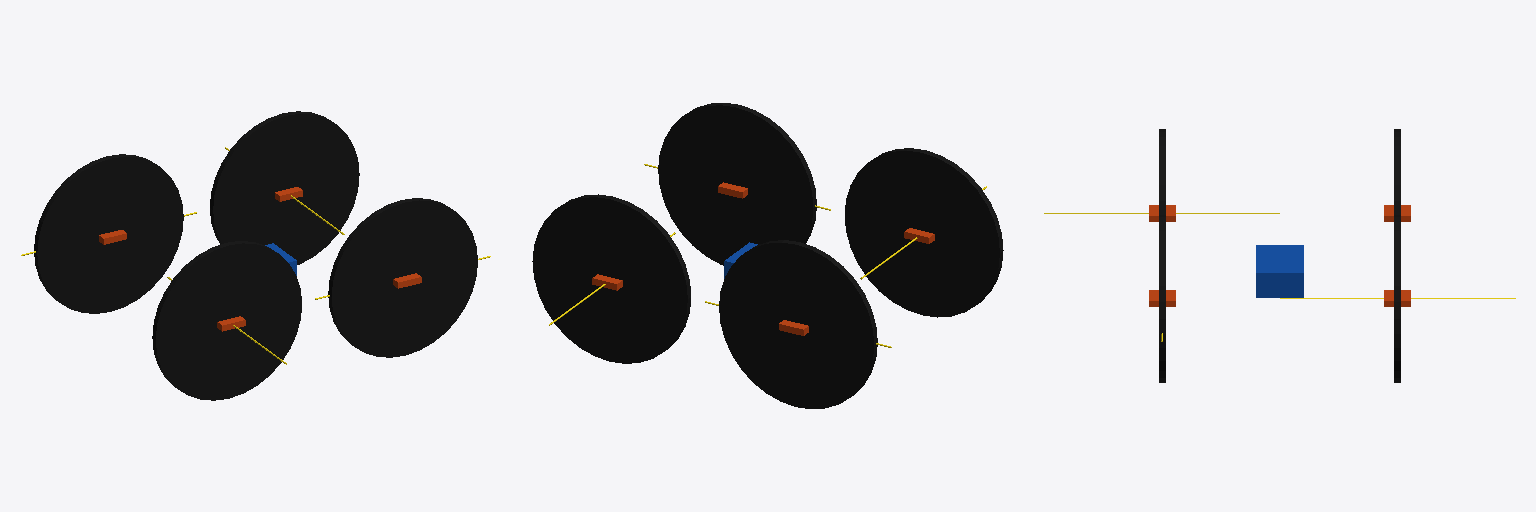
robot.urdf — goat:
<?xml version="1.0"?>
<!--
  GOAT Robot URDF — Version 3 Fixed (Clean Tendon Architecture)
  
  REDESIGN: Circuit topology with 4 segments connecting 4 corner wheels
  Structure: 2 stacked rings with 4 segments forming rectangular circuit
  Segments: Front (FL→FR), Right (FR→RR), Back (RR→RL), Left (RL→FL)
  Wheels at 4 corners: FL, FR, RL, RR (front-left, front-right, rear-left, rear-right)

  TENDONS: 2 independent cables for morphing control via prismatic joints to eyelets
-->
<robot name="goat">

  <material name="fiberglass"><color rgba="0.95 0.85 0.10 1.0"/></material>
  <material name="payload_box"><color rgba="0.10 0.35 0.70 1.0"/></material>
  <material name="wheel_dark"><color rgba="0.12 0.12 0.12 1.0"/></material>
  <material name="connector"><color rgba="0.80 0.30 0.10 1.0"/></material>

  <!-- PAYLOAD — base link, 1.8 kg -->
  <link name="payload">
    <visual>
      <origin xyz="0 0 0" rpy="0 0 0"/>
      <geometry><box size="0.20 0.14 0.08"/></geometry>
      <material name="payload_box"/>
    </visual>
    <collision>
      <origin xyz="0 0 0" rpy="0 0 0"/>
      <geometry><box size="0.20 0.14 0.08"/></geometry>
    </collision>
    <inertial>
      <origin xyz="0 0 0" rpy="0 0 0"/>
      <mass value="1.80"/>
      <inertia ixx="0.003940" ixy="0" ixz="0"
               iyy="0.005150" iyz="0"
               izz="0.006720"/>
    </inertial>
  </link>

  <!-- ════════════════════════════════════════════════════════════════════════════
       LENSES (×4) — Rigid connectors at 4 wheel corners
  ════════════════════════════════════════════════════════════════════════════ -->

  <link name="lens_FL">
    <visual>
      <origin xyz="0 0 0" rpy="0 0 0"/>
      <geometry><box size="0.08 0.08 0.02"/></geometry>
      <material name="connector"/>
    </visual>
    <collision>
      <origin xyz="0 0 0" rpy="0 0 0"/>
      <geometry><box size="0.08 0.08 0.02"/></geometry>
    </collision>
    <inertial>
      <origin xyz="0 0 0" rpy="0 0 0"/>
      <mass value="0.010"/>
      <inertia ixx="0.000011" ixy="0" ixz="0"
               iyy="0.000011" iyz="0"
               izz="0.000011"/>
    </inertial>
  </link>
  <joint name="lens_FL_joint" type="fixed">
    <parent link="payload"/>
    <child  link="lens_FL"/>
    <origin xyz="0.30 0.35 0.05" rpy="0 0 0"/>
  </joint>

  <link name="lens_FR">
    <visual>
      <origin xyz="0 0 0" rpy="0 0 0"/>
      <geometry><box size="0.08 0.08 0.02"/></geometry>
      <material name="connector"/>
    </visual>
    <collision>
      <origin xyz="0 0 0" rpy="0 0 0"/>
      <geometry><box size="0.08 0.08 0.02"/></geometry>
    </collision>
    <inertial>
      <origin xyz="0 0 0" rpy="0 0 0"/>
      <mass value="0.010"/>
      <inertia ixx="0.000011" ixy="0" ixz="0"
               iyy="0.000011" iyz="0"
               izz="0.000011"/>
    </inertial>
  </link>
  <joint name="lens_FR_joint" type="fixed">
    <parent link="payload"/>
    <child  link="lens_FR"/>
    <origin xyz="0.30 -0.35 0.05" rpy="0 0 0"/>
  </joint>

  <link name="lens_RL">
    <visual>
      <origin xyz="0 0 0" rpy="0 0 0"/>
      <geometry><box size="0.08 0.08 0.02"/></geometry>
      <material name="connector"/>
    </visual>
    <collision>
      <origin xyz="0 0 0" rpy="0 0 0"/>
      <geometry><box size="0.08 0.08 0.02"/></geometry>
    </collision>
    <inertial>
      <origin xyz="0 0 0" rpy="0 0 0"/>
      <mass value="0.010"/>
      <inertia ixx="0.000011" ixy="0" ixz="0"
               iyy="0.000011" iyz="0"
               izz="0.000011"/>
    </inertial>
  </link>
  <joint name="lens_RL_joint" type="fixed">
    <parent link="payload"/>
    <child  link="lens_RL"/>
    <origin xyz="-0.30 0.35 0.05" rpy="0 0 0"/>
  </joint>

  <link name="lens_RR">
    <visual>
      <origin xyz="0 0 0" rpy="0 0 0"/>
      <geometry><box size="0.08 0.08 0.02"/></geometry>
      <material name="connector"/>
    </visual>
    <collision>
      <origin xyz="0 0 0" rpy="0 0 0"/>
      <geometry><box size="0.08 0.08 0.02"/></geometry>
    </collision>
    <inertial>
      <origin xyz="0 0 0" rpy="0 0 0"/>
      <mass value="0.010"/>
      <inertia ixx="0.000011" ixy="0" ixz="0"
               iyy="0.000011" iyz="0"
               izz="0.000011"/>
    </inertial>
  </link>
  <joint name="lens_RR_joint" type="fixed">
    <parent link="payload"/>
    <child  link="lens_RR"/>
    <origin xyz="-0.30 -0.35 0.05" rpy="0 0 0"/>
  </joint>

  <!-- ════════════════════════════════════════════════════════════════════════════
       CIRCUIT SEGMENTS (4 total) — Connected loop around the 4 wheels
       
       Segments attach to lenses at corners and form rectangular circuit
       Eyelets at midpoints for tendon attachment
  ════════════════════════════════════════════════════════════════════════════ -->

  <!-- SEGMENT 1: FRONT  (0.70m Y-axis, FL → FR) -->
  <link name="seg_front">
    <visual>
      <origin xyz="0 0 0" rpy="1.5708 0 0"/>
      <geometry><cylinder radius="0.0025" length="0.70"/></geometry>
      <material name="fiberglass"/>
    </visual>
    <collision>
      <origin xyz="0 0 0" rpy="1.5708 0 0"/>
      <geometry><cylinder radius="0.0025" length="0.70"/></geometry>
    </collision>
    <inertial>
      <origin xyz="0 0 0" rpy="1.5708 0 0"/>
      <mass value="0.09"/>
      <inertia ixx="0.00000062" ixy="0" ixz="0"
               iyy="0.0029167" iyz="0"
               izz="0.0029167"/>
    </inertial>
  </link>
  <joint name="j_lens_FL_to_seg_front" type="fixed">
    <parent link="lens_FL"/>
    <child  link="seg_front"/>
    <origin xyz="0 0 0" rpy="0 0 0"/>
  </joint>

  <!-- EYELET F: midpoint of front segment -->
  <link name="eyelet_F">
    <visual>
      <origin xyz="0 0 0" rpy="0 0 0"/>
      <geometry><sphere radius="0.008"/></geometry>
      <material name="connector"/>
    </visual>
    <collision>
      <origin xyz="0 0 0" rpy="0 0 0"/>
      <geometry><sphere radius="0.008"/></geometry>
    </collision>
    <inertial>
      <origin xyz="0 0 0" rpy="0 0 0"/>
      <mass value="0.002"/>
      <inertia ixx="0.000001" ixy="0" ixz="0"
               iyy="0.000001" iyz="0"
               izz="0.000001"/>
    </inertial>
  </link>
  <joint name="j_seg_front_eyelet" type="fixed">
    <parent link="seg_front"/>
    <child  link="eyelet_F"/>
    <origin xyz="0 0 0" rpy="0 0 0"/>
  </joint>

  <!-- SEGMENT 2: RIGHT (0.60m X-axis, FR → RR) -->
  <link name="seg_right">
    <visual>
      <origin xyz="0 0 0" rpy="0 1.5708 0"/>
      <geometry><cylinder radius="0.0025" length="0.60"/></geometry>
      <material name="fiberglass"/>
    </visual>
    <collision>
      <origin xyz="0 0 0" rpy="0 1.5708 0"/>
      <geometry><cylinder radius="0.0025" length="0.60"/></geometry>
    </collision>
    <inertial>
      <origin xyz="0 0 0" rpy="0 1.5708 0"/>
      <mass value="0.08"/>
      <inertia ixx="0.00000062" ixy="0" ixz="0"
               iyy="0.0020000" iyz="0"
               izz="0.0020000"/>
    </inertial>
  </link>
  <joint name="j_lens_FR_to_seg_right" type="fixed">
    <parent link="lens_FR"/>
    <child  link="seg_right"/>
    <origin xyz="0 0 0" rpy="0 0 0"/>
  </joint>

  <!-- EYELET R: midpoint of right segment -->
  <link name="eyelet_R">
    <visual>
      <origin xyz="0 0 0" rpy="0 0 0"/>
      <geometry><sphere radius="0.008"/></geometry>
      <material name="connector"/>
    </visual>
    <collision>
      <origin xyz="0 0 0" rpy="0 0 0"/>
      <geometry><sphere radius="0.008"/></geometry>
    </collision>
    <inertial>
      <origin xyz="0 0 0" rpy="0 0 0"/>
      <mass value="0.002"/>
      <inertia ixx="0.000001" ixy="0" ixz="0"
               iyy="0.000001" iyz="0"
               izz="0.000001"/>
    </inertial>
  </link>
  <joint name="j_seg_right_eyelet" type="fixed">
    <parent link="seg_right"/>
    <child  link="eyelet_R"/>
    <origin xyz="0 0 0" rpy="0 0 0"/>
  </joint>

  <!-- SEGMENT 3: BACK (0.70m Y-axis, RR → RL) -->
  <link name="seg_back">
    <visual>
      <origin xyz="0 0 0" rpy="1.5708 0 0"/>
      <geometry><cylinder radius="0.0025" length="0.70"/></geometry>
      <material name="fiberglass"/>
    </visual>
    <collision>
      <origin xyz="0 0 0" rpy="1.5708 0 0"/>
      <geometry><cylinder radius="0.0025" length="0.70"/></geometry>
    </collision>
    <inertial>
      <origin xyz="0 0 0" rpy="1.5708 0 0"/>
      <mass value="0.09"/>
      <inertia ixx="0.00000062" ixy="0" ixz="0"
               iyy="0.0029167" iyz="0"
               izz="0.0029167"/>
    </inertial>
  </link>
  <joint name="j_lens_RR_to_seg_back" type="fixed">
    <parent link="lens_RR"/>
    <child  link="seg_back"/>
    <origin xyz="0 0 0" rpy="0 0 0"/>
  </joint>

  <!-- EYELET B: midpoint of back segment -->
  <link name="eyelet_B">
    <visual>
      <origin xyz="0 0 0" rpy="0 0 0"/>
      <geometry><sphere radius="0.008"/></geometry>
      <material name="connector"/>
    </visual>
    <collision>
      <origin xyz="0 0 0" rpy="0 0 0"/>
      <geometry><sphere radius="0.008"/></geometry>
    </collision>
    <inertial>
      <origin xyz="0 0 0" rpy="0 0 0"/>
      <mass value="0.002"/>
      <inertia ixx="0.000001" ixy="0" ixz="0"
               iyy="0.000001" iyz="0"
               izz="0.000001"/>
    </inertial>
  </link>
  <joint name="j_seg_back_eyelet" type="fixed">
    <parent link="seg_back"/>
    <child  link="eyelet_B"/>
    <origin xyz="0 0 0" rpy="0 0 0"/>
  </joint>

  <!-- SEGMENT 4: LEFT (0.60m X-axis, RL → FL) -->
  <link name="seg_left">
    <visual>
      <origin xyz="0 0 0" rpy="0 1.5708 0"/>
      <geometry><cylinder radius="0.0025" length="0.60"/></geometry>
      <material name="fiberglass"/>
    </visual>
    <collision>
      <origin xyz="0 0 0" rpy="0 1.5708 0"/>
      <geometry><cylinder radius="0.0025" length="0.60"/></geometry>
    </collision>
    <inertial>
      <origin xyz="0 0 0" rpy="0 1.5708 0"/>
      <mass value="0.08"/>
      <inertia ixx="0.00000062" ixy="0" ixz="0"
               iyy="0.0020000" iyz="0"
               izz="0.0020000"/>
    </inertial>
  </link>
  <joint name="j_lens_RL_to_seg_left" type="fixed">
    <parent link="lens_RL"/>
    <child  link="seg_left"/>
    <origin xyz="0 0 0" rpy="0 0 0"/>
  </joint>

  <!-- EYELET L: midpoint of left segment -->
  <link name="eyelet_L">
    <visual>
      <origin xyz="0 0 0" rpy="0 0 0"/>
      <geometry><sphere radius="0.008"/></geometry>
      <material name="connector"/>
    </visual>
    <collision>
      <origin xyz="0 0 0" rpy="0 0 0"/>
      <geometry><sphere radius="0.008"/></geometry>
    </collision>
    <inertial>
      <origin xyz="0 0 0" rpy="0 0 0"/>
      <mass value="0.002"/>
      <inertia ixx="0.000001" ixy="0" ixz="0"
               iyy="0.000001" iyz="0"
               izz="0.000001"/>
    </inertial>
  </link>
  <joint name="j_seg_left_eyelet" type="fixed">
    <parent link="seg_left"/>
    <child  link="eyelet_L"/>
    <origin xyz="0 0 0" rpy="0 0 0"/>
  </joint>

  <!-- ════════════════════════════════════════════════════════════════════════════
       WHEELS (×4) — Continuous joints at the 4 corners
  ════════════════════════════════════════════════════════════════════════════ -->

  <link name="wheel_FL">
    <visual>
      <origin xyz="0 0 0" rpy="1.5708 0 0"/>
      <geometry><cylinder radius="0.2500" length="0.02"/></geometry>
      <material name="wheel_dark"/>
    </visual>
    <collision>
      <origin xyz="0 0 0" rpy="1.5708 0 0"/>
      <geometry><cylinder radius="0.2500" length="0.02"/></geometry>
    </collision>
    <inertial>
      <origin xyz="0 0 0" rpy="1.5708 0 0"/>
      <mass value="0.050"/>
      <inertia ixx="0.000800" ixy="0" ixz="0"
               iyy="0.001550" iyz="0"
               izz="0.000800"/>
    </inertial>
  </link>
  <joint name="wheel_FL_joint" type="continuous">
    <parent link="lens_FL"/>
    <child  link="wheel_FL"/>
    <origin xyz="0 0 0" rpy="0 0 0"/>
    <axis xyz="0 1 0"/>
    <dynamics damping="0.3" friction="0.05"/>
  </joint>

  <link name="wheel_FR">
    <visual>
      <origin xyz="0 0 0" rpy="1.5708 0 0"/>
      <geometry><cylinder radius="0.2500" length="0.02"/></geometry>
      <material name="wheel_dark"/>
    </visual>
    <collision>
      <origin xyz="0 0 0" rpy="1.5708 0 0"/>
      <geometry><cylinder radius="0.2500" length="0.02"/></geometry>
    </collision>
    <inertial>
      <origin xyz="0 0 0" rpy="1.5708 0 0"/>
      <mass value="0.050"/>
      <inertia ixx="0.001550" ixy="0" ixz="0"
               iyy="0.000800" iyz="0"
               izz="0.000800"/>
    </inertial>
  </link>
  <joint name="wheel_FR_joint" type="continuous">
    <parent link="lens_FR"/>
    <child  link="wheel_FR"/>
    <origin xyz="0 0 0" rpy="0 0 0"/>
    <axis xyz="1 0 0"/>
    <dynamics damping="0.3" friction="0.05"/>
  </joint>

  <link name="wheel_RL">
    <visual>
      <origin xyz="0 0 0" rpy="1.5708 0 0"/>
      <geometry><cylinder radius="0.2500" length="0.02"/></geometry>
      <material name="wheel_dark"/>
    </visual>
    <collision>
      <origin xyz="0 0 0" rpy="1.5708 0 0"/>
      <geometry><cylinder radius="0.2500" length="0.02"/></geometry>
    </collision>
    <inertial>
      <origin xyz="0 0 0" rpy="1.5708 0 0"/>
      <mass value="0.050"/>
      <inertia ixx="0.000800" ixy="0" ixz="0"
               iyy="0.001550" iyz="0"
               izz="0.000800"/>
    </inertial>
  </link>
  <joint name="wheel_RL_joint" type="continuous">
    <parent link="lens_RL"/>
    <child  link="wheel_RL"/>
    <origin xyz="0 0 0" rpy="0 0 0"/>
    <axis xyz="0 1 0"/>
    <dynamics damping="0.3" friction="0.05"/>
  </joint>

  <link name="wheel_RR">
    <visual>
      <origin xyz="0 0 0" rpy="1.5708 0 0"/>
      <geometry><cylinder radius="0.2500" length="0.02"/></geometry>
      <material name="wheel_dark"/>
    </visual>
    <collision>
      <origin xyz="0 0 0" rpy="1.5708 0 0"/>
      <geometry><cylinder radius="0.2500" length="0.02"/></geometry>
    </collision>
    <inertial>
      <origin xyz="0 0 0" rpy="1.5708 0 0"/>
      <mass value="0.050"/>
      <inertia ixx="0.001550" ixy="0" ixz="0"
               iyy="0.000800" iyz="0"
               izz="0.000800"/>
    </inertial>
  </link>
  <joint name="wheel_RR_joint" type="continuous">
    <parent link="lens_RR"/>
    <child  link="wheel_RR"/>
    <origin xyz="0 0 0" rpy="0 0 0"/>
    <axis xyz="1 0 0"/>
    <dynamics damping="0.3" friction="0.05"/>
  </joint>

  <!-- ════════════════════════════════════════════════════════════════════════════
       TENDON SYSTEM (×2) — Prismatic joints for morphing control
       
       Direct prismatic joints without intermediate cable links
       These actuate the circuit deformation directly via Python control
  ════════════════════════════════════════════════════════════════════════════ -->

  <!-- TENDON 1: X-axis (left-right circuit morphing) -->
  <link name="tendon_1">
    <inertial>
      <mass value="0.005"/>
      <inertia ixx="0.000001" ixy="0" ixz="0"
               iyy="0.000001" iyz="0"
               izz="0.000001"/>
    </inertial>
  </link>
  <joint name="tendon_1" type="prismatic">
    <parent link="payload"/>
    <child  link="tendon_1"/>
    <origin xyz="0 0 0" rpy="0 0 0"/>
    <axis xyz="1 0 0"/>
    <limit lower="0.0" upper="0.35" effort="3.92" velocity="0.1"/>
    <dynamics damping="5.0" friction="0.2"/>
  </joint>

  <!-- TENDON 2: Y-axis (front-back circuit morphing) -->
  <link name="tendon_2">
    <inertial>
      <mass value="0.005"/>
      <inertia ixx="0.000001" ixy="0" ixz="0"
               iyy="0.000001" iyz="0"
               izz="0.000001"/>
    </inertial>
  </link>
  <joint name="tendon_2" type="prismatic">
    <parent link="payload"/>
    <child  link="tendon_2"/>
    <origin xyz="0 0 0" rpy="0 0 0"/>
    <axis xyz="0 1 0"/>
    <limit lower="0.0" upper="0.30" effort="3.92" velocity="0.1"/>
    <dynamics damping="5.0" friction="0.2"/>
  </joint>

</robot>

--- Render facts (derived) ---
3 views of the same robot in one strip: view 1: azimuth 30°, elevation 25°; view 2: azimuth 150°, elevation 25°; view 3: azimuth 270°, elevation 25° (orthographic).
Robot: goat — 19 links, 18 joints (4 continuous, 2 prismatic, 12 fixed); root link payload; default pose: all joints at 0.
Links seen in each view (by area): view 1: wheel_RL, wheel_FR, wheel_RR, wheel_FL; view 2: wheel_RL, wheel_RR, wheel_FL, wheel_FR; view 3: payload, wheel_FL, wheel_FR, wheel_RL, wheel_RR.
Boxes of the visible links, x1,y1,x2,y2 form: wheel_RL: (34,154,183,313); wheel_FR: (328,198,477,357); wheel_RR: (152,241,301,400); wheel_FL: (210,111,359,264); wheel_RL: (719,240,877,408); wheel_RR: (845,148,1003,317); wheel_FL: (532,194,690,363); wheel_FR: (658,103,816,265); payload: (1256,245,1303,297); wheel_FL: (1394,215,1400,382); wheel_FR: (1159,215,1165,382); wheel_RL: (1394,129,1400,214); wheel_RR: (1159,129,1165,214).
Size in the robot's own frame: 1.2 by 1.4 by 0.5 metres.
Geometry: primitives only (box / cylinder / sphere), no mesh files.
